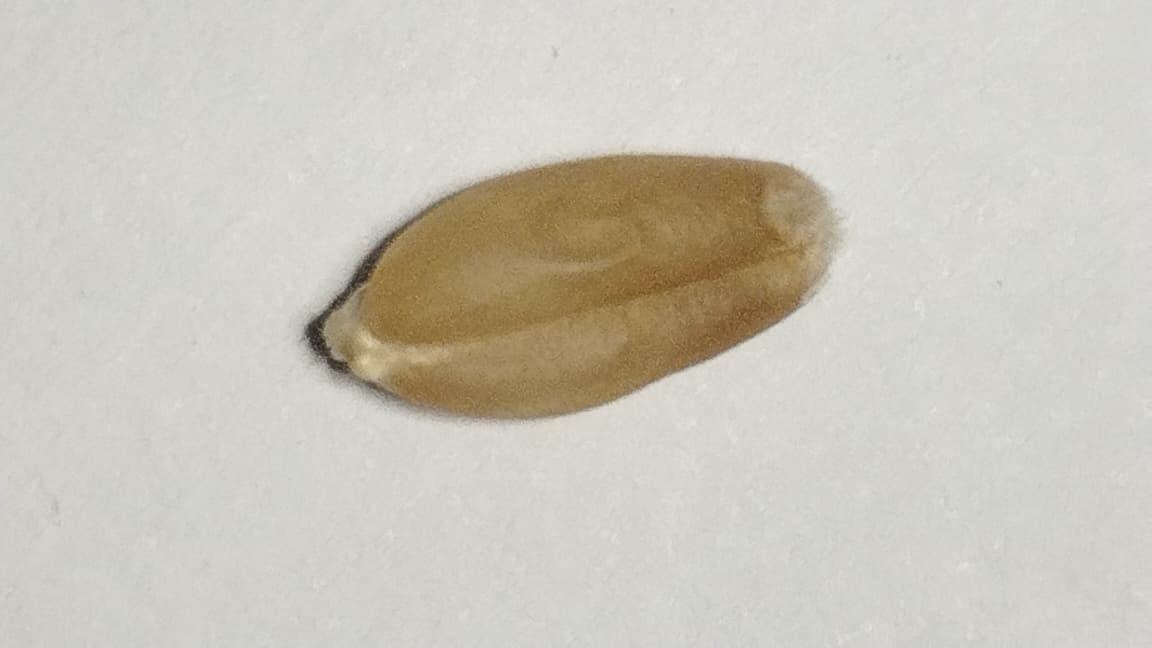healthy: (306, 152, 838, 420)
